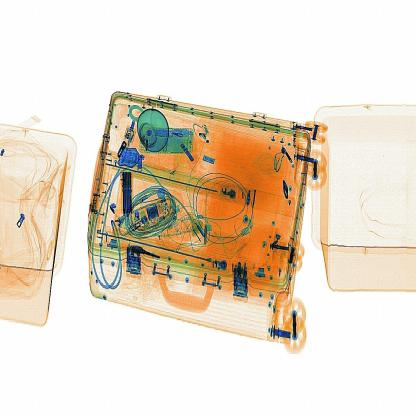scissors: (118, 164, 143, 218)
